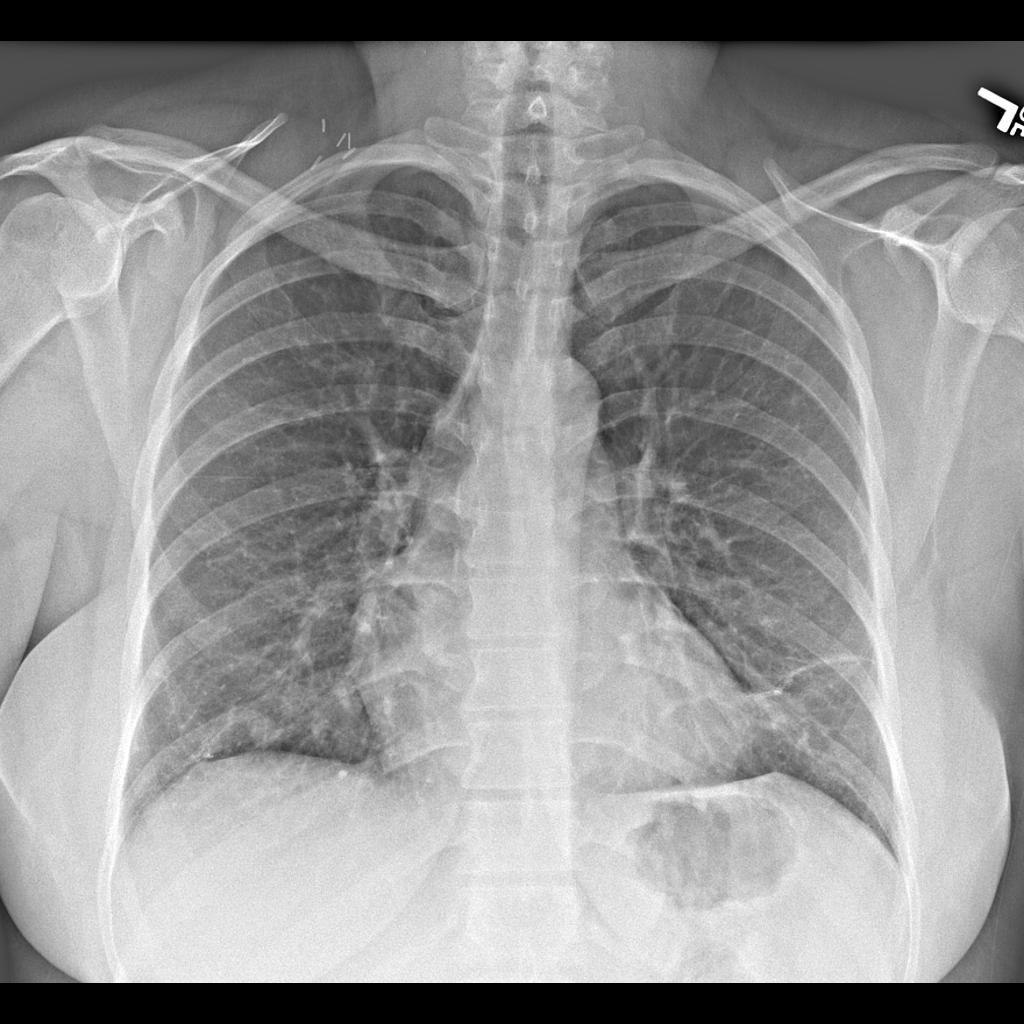Nodule: (241, 703, 292, 753)
